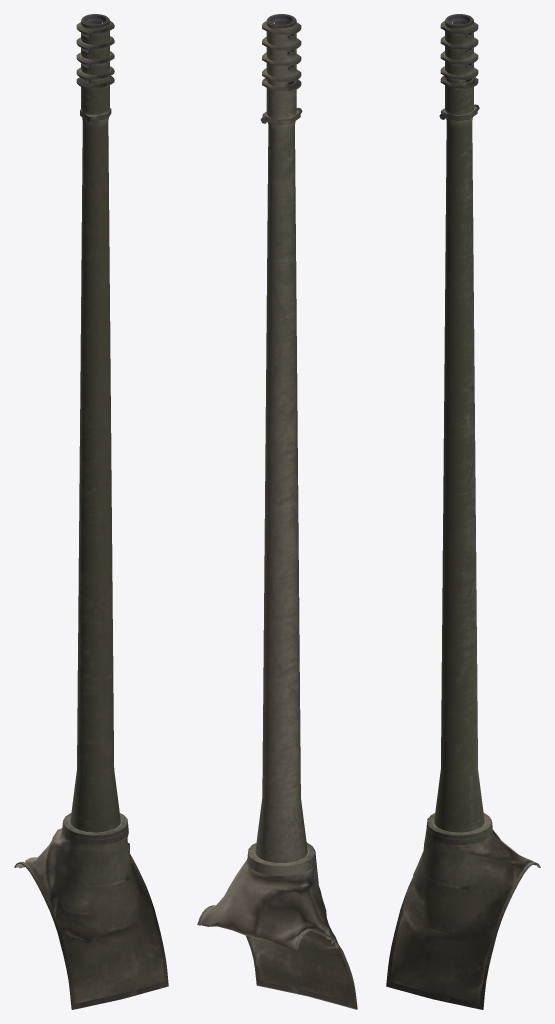
Rendered from Gun_05.glb.
3 views of the same model, side by side, from view 1: azimuth 30°, elevation 25°; view 2: azimuth 150°, elevation 25°; view 3: azimuth 330°, elevation 25° (orthographic). The views are drawn at different scales.
Visible parts, largest first — view 1: set_0_group_0; view 2: set_0_group_0; view 3: set_0_group_0.
Part boxes in pixels (<box>): set_0_group_0: <box>14,14,168,1009</box>; set_0_group_0: <box>197,14,357,1009</box>; set_0_group_0: <box>386,14,540,1009</box>.
Bounding box in the file's own units: 0.5232 × 4.97 × 0.5602.
1 material, 1 textured.
